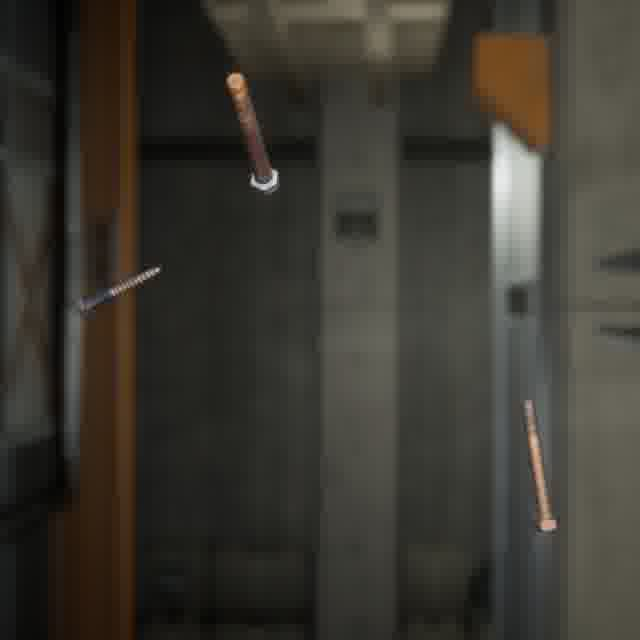bolt: (222, 68, 283, 200), (515, 392, 566, 536), (71, 261, 167, 322)
